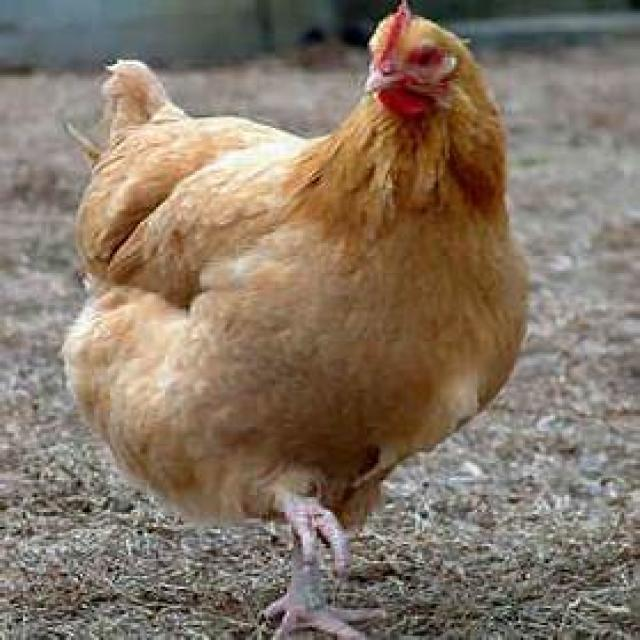hen: (63, 2, 528, 640)
